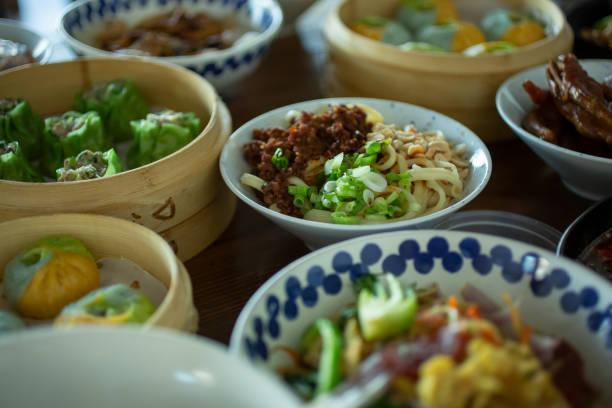Braised Crucian Carp: (228, 230, 609, 405), (0, 57, 239, 268), (220, 97, 489, 252), (4, 213, 201, 336)
